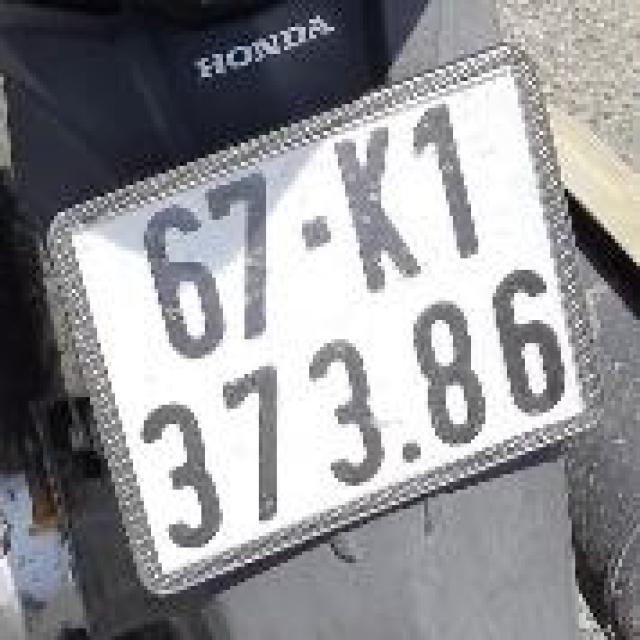1: (397, 91, 500, 276)
3: (128, 388, 244, 563), (291, 324, 403, 499)
6: (120, 195, 247, 376), (477, 254, 584, 431)
7: (192, 159, 304, 352), (204, 350, 315, 532)
8: (396, 286, 497, 464)
K: (323, 116, 435, 310)
